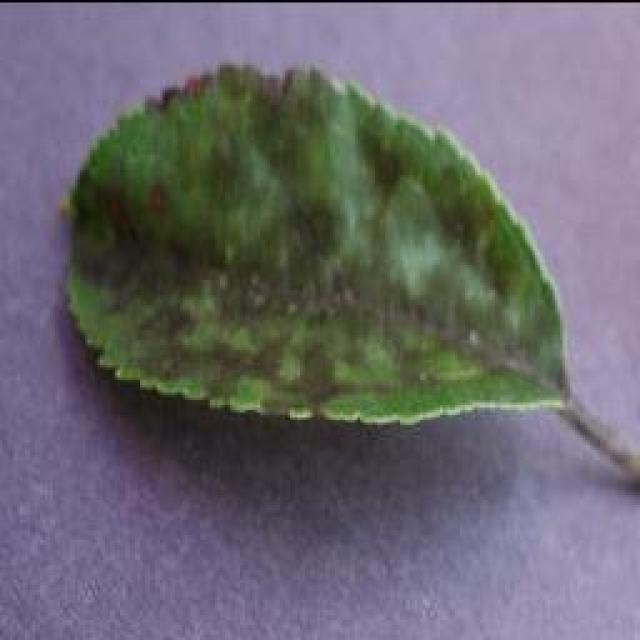apple scab disease: (58, 58, 638, 490)
